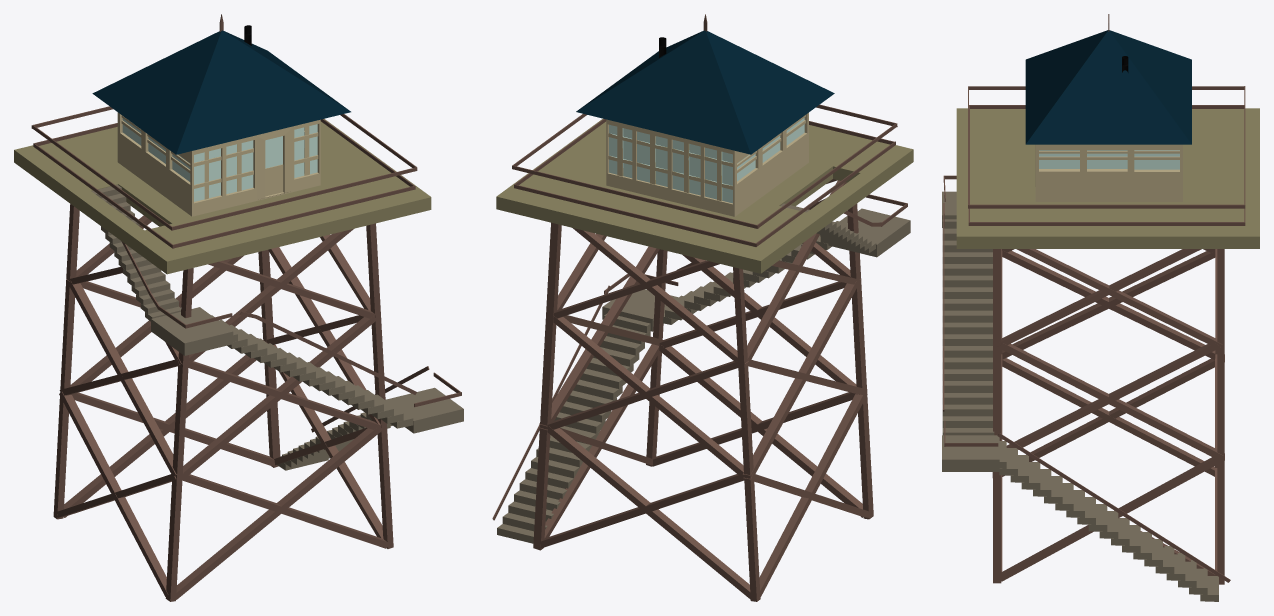
The model's file is fire-lookout.zfix-v1.lod0.glb.
3 views of the same model, side by side, from view 1: azimuth 30°, elevation 25°; view 2: azimuth 150°, elevation 25°; view 3: azimuth 270°, elevation 25° (orthographic).
Visible parts, largest first — view 1: Object_4, Object_29, Object_21; view 2: Object_4, Object_29, Object_21; view 3: Object_4, Object_29, Object_21.
Part boxes in pixels (left/top/right/bottom): Object_4: left=14, top=25, right=463, bottom=470; Object_29: left=31, top=14, right=461, bottom=601; Object_21: left=117, top=112, right=320, bottom=216; Object_4: left=496, top=30, right=913, bottom=543; Object_29: left=492, top=14, right=907, bottom=601; Object_21: left=606, top=112, right=808, bottom=216; Object_4: left=942, top=30, right=1259, bottom=601; Object_29: left=943, top=14, right=1245, bottom=584; Object_21: left=1035, top=144, right=1182, bottom=201.
Bounding box in the file's own units: 9.33 × 16 × 8.93.
